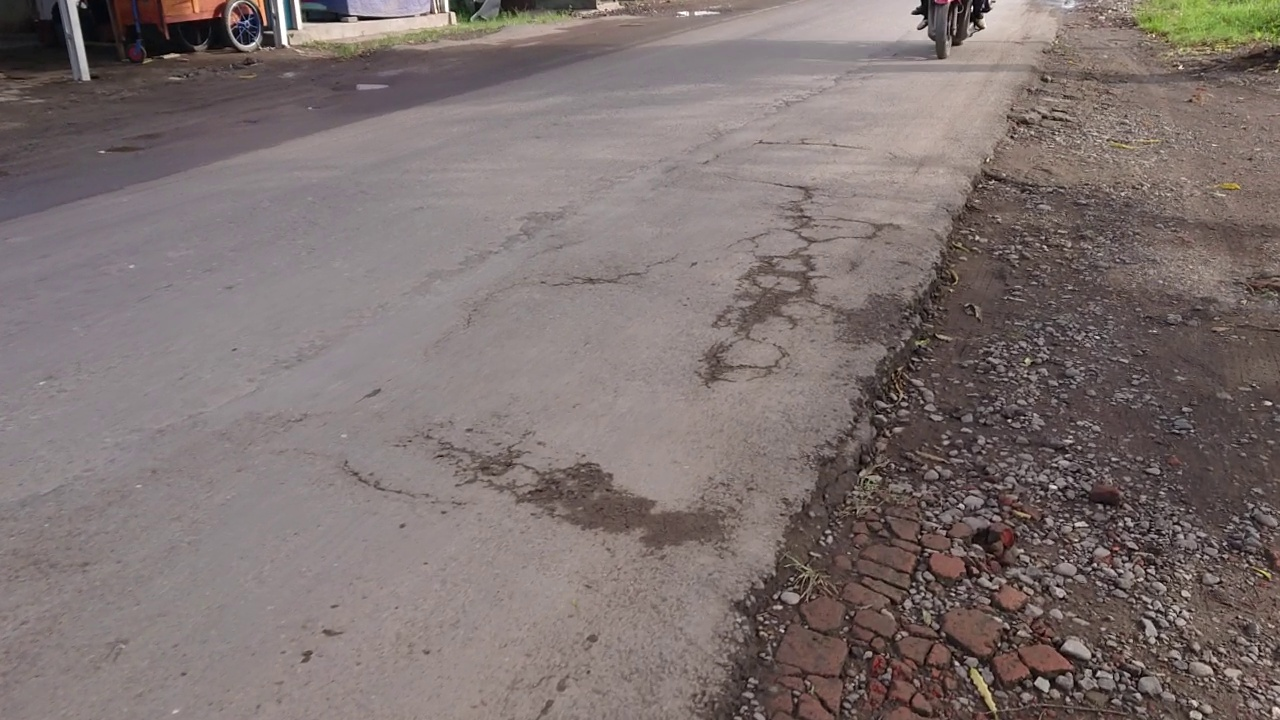Retak: (714, 190, 862, 388), (406, 432, 621, 519), (733, 63, 857, 170)
